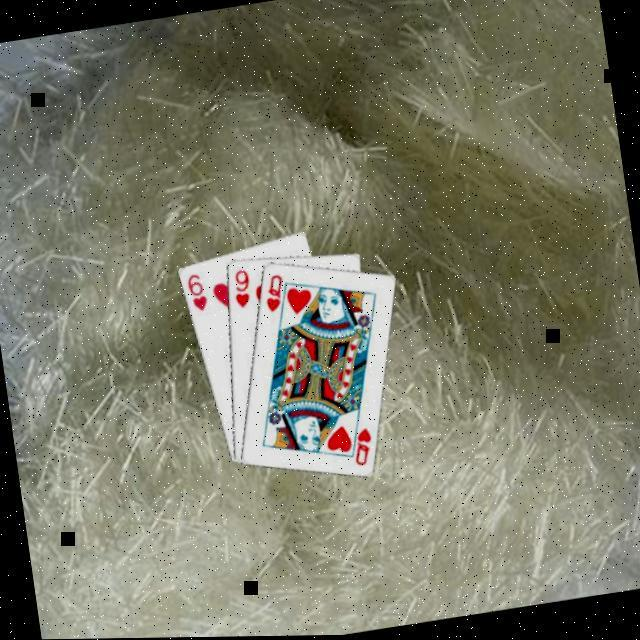6H: (184, 268, 212, 314)
9H: (229, 263, 257, 310)
QH: (344, 416, 379, 470), (260, 270, 291, 314)
